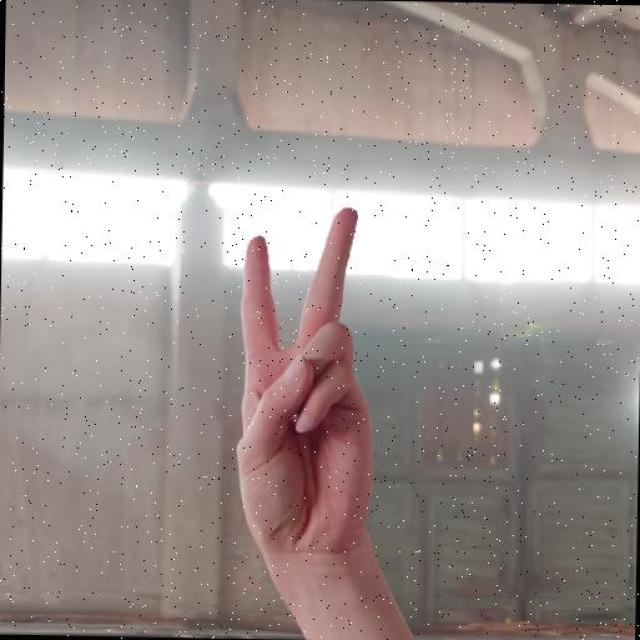V: (220, 200, 372, 574)
